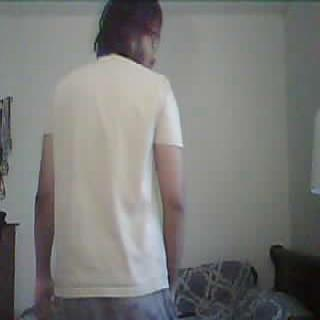Yellow T-Shirt: (41, 53, 183, 294)
